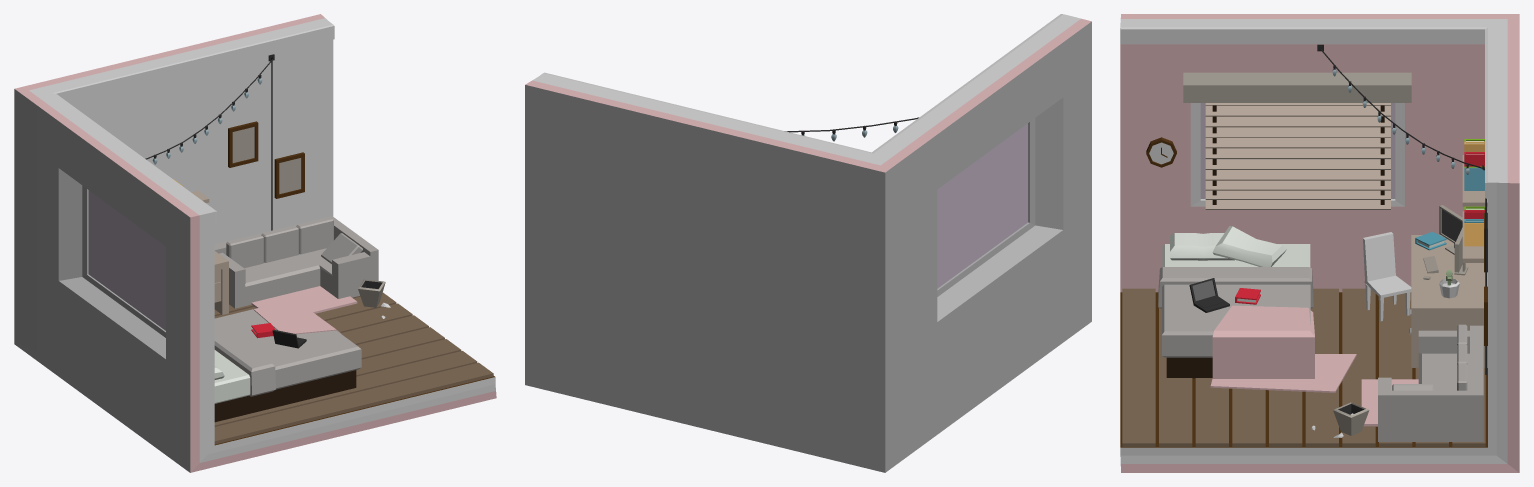
Rendered from Room_lights.fbx.
3 renders of one model, left to right at view 1: azimuth 30°, elevation 25°; view 2: azimuth 150°, elevation 25°; view 3: azimuth 270°, elevation 25°, orthographic. The views are drawn at different scales.
Parts seen in each view (by area): view 1: room, floor, pCube93, polySurface153, pCube63, pCube40, pCube64, pCube92, pCube41, pCube94, pCube129, pCube130 (+7 smaller); view 2: room, pCube93; view 3: room, polySurface56, floor, pCube92, polySurface153, polySurface36, pCube63, pCube64, pCube132, pCube43, pCube41, pCube42 (+12 smaller).
Part boxes in pixels (x1,y1,x2,y2): room: (14,14,496,472); floor: (214,292,493,444); pCube93: (88,190,165,330); polySurface153: (214,216,378,308); pCube63: (214,307,361,389); pCube40: (214,370,356,422); pCube64: (214,322,275,396); pCube92: (253,298,341,334); pCube41: (214,350,250,403); pCube94: (251,286,357,313); pCube129: (228,121,258,167); pCube130: (274,152,304,198); room: (525,14,1091,472); pCube93: (937,123,1027,288); room: (1120,14,1519,472); polySurface56: (1183,72,1411,209); floor: (1122,288,1485,446); pCube92: (1210,305,1356,392); polySurface153: (1378,325,1483,441); polySurface36: (1409,235,1487,367); pCube63: (1162,284,1310,357); pCube64: (1158,267,1313,308); pCube132: (1363,232,1411,321); pCube43: (1212,226,1286,266); pCube41: (1162,244,1310,267); pCube42: (1170,233,1234,260).
Bounding box in the file's own units: 26.14 × 20.82 × 26.01.
